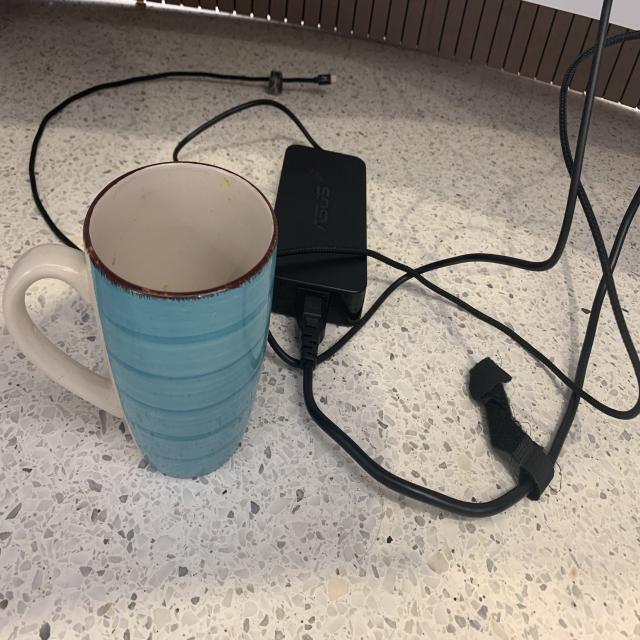Cup: (3, 153, 282, 490)
